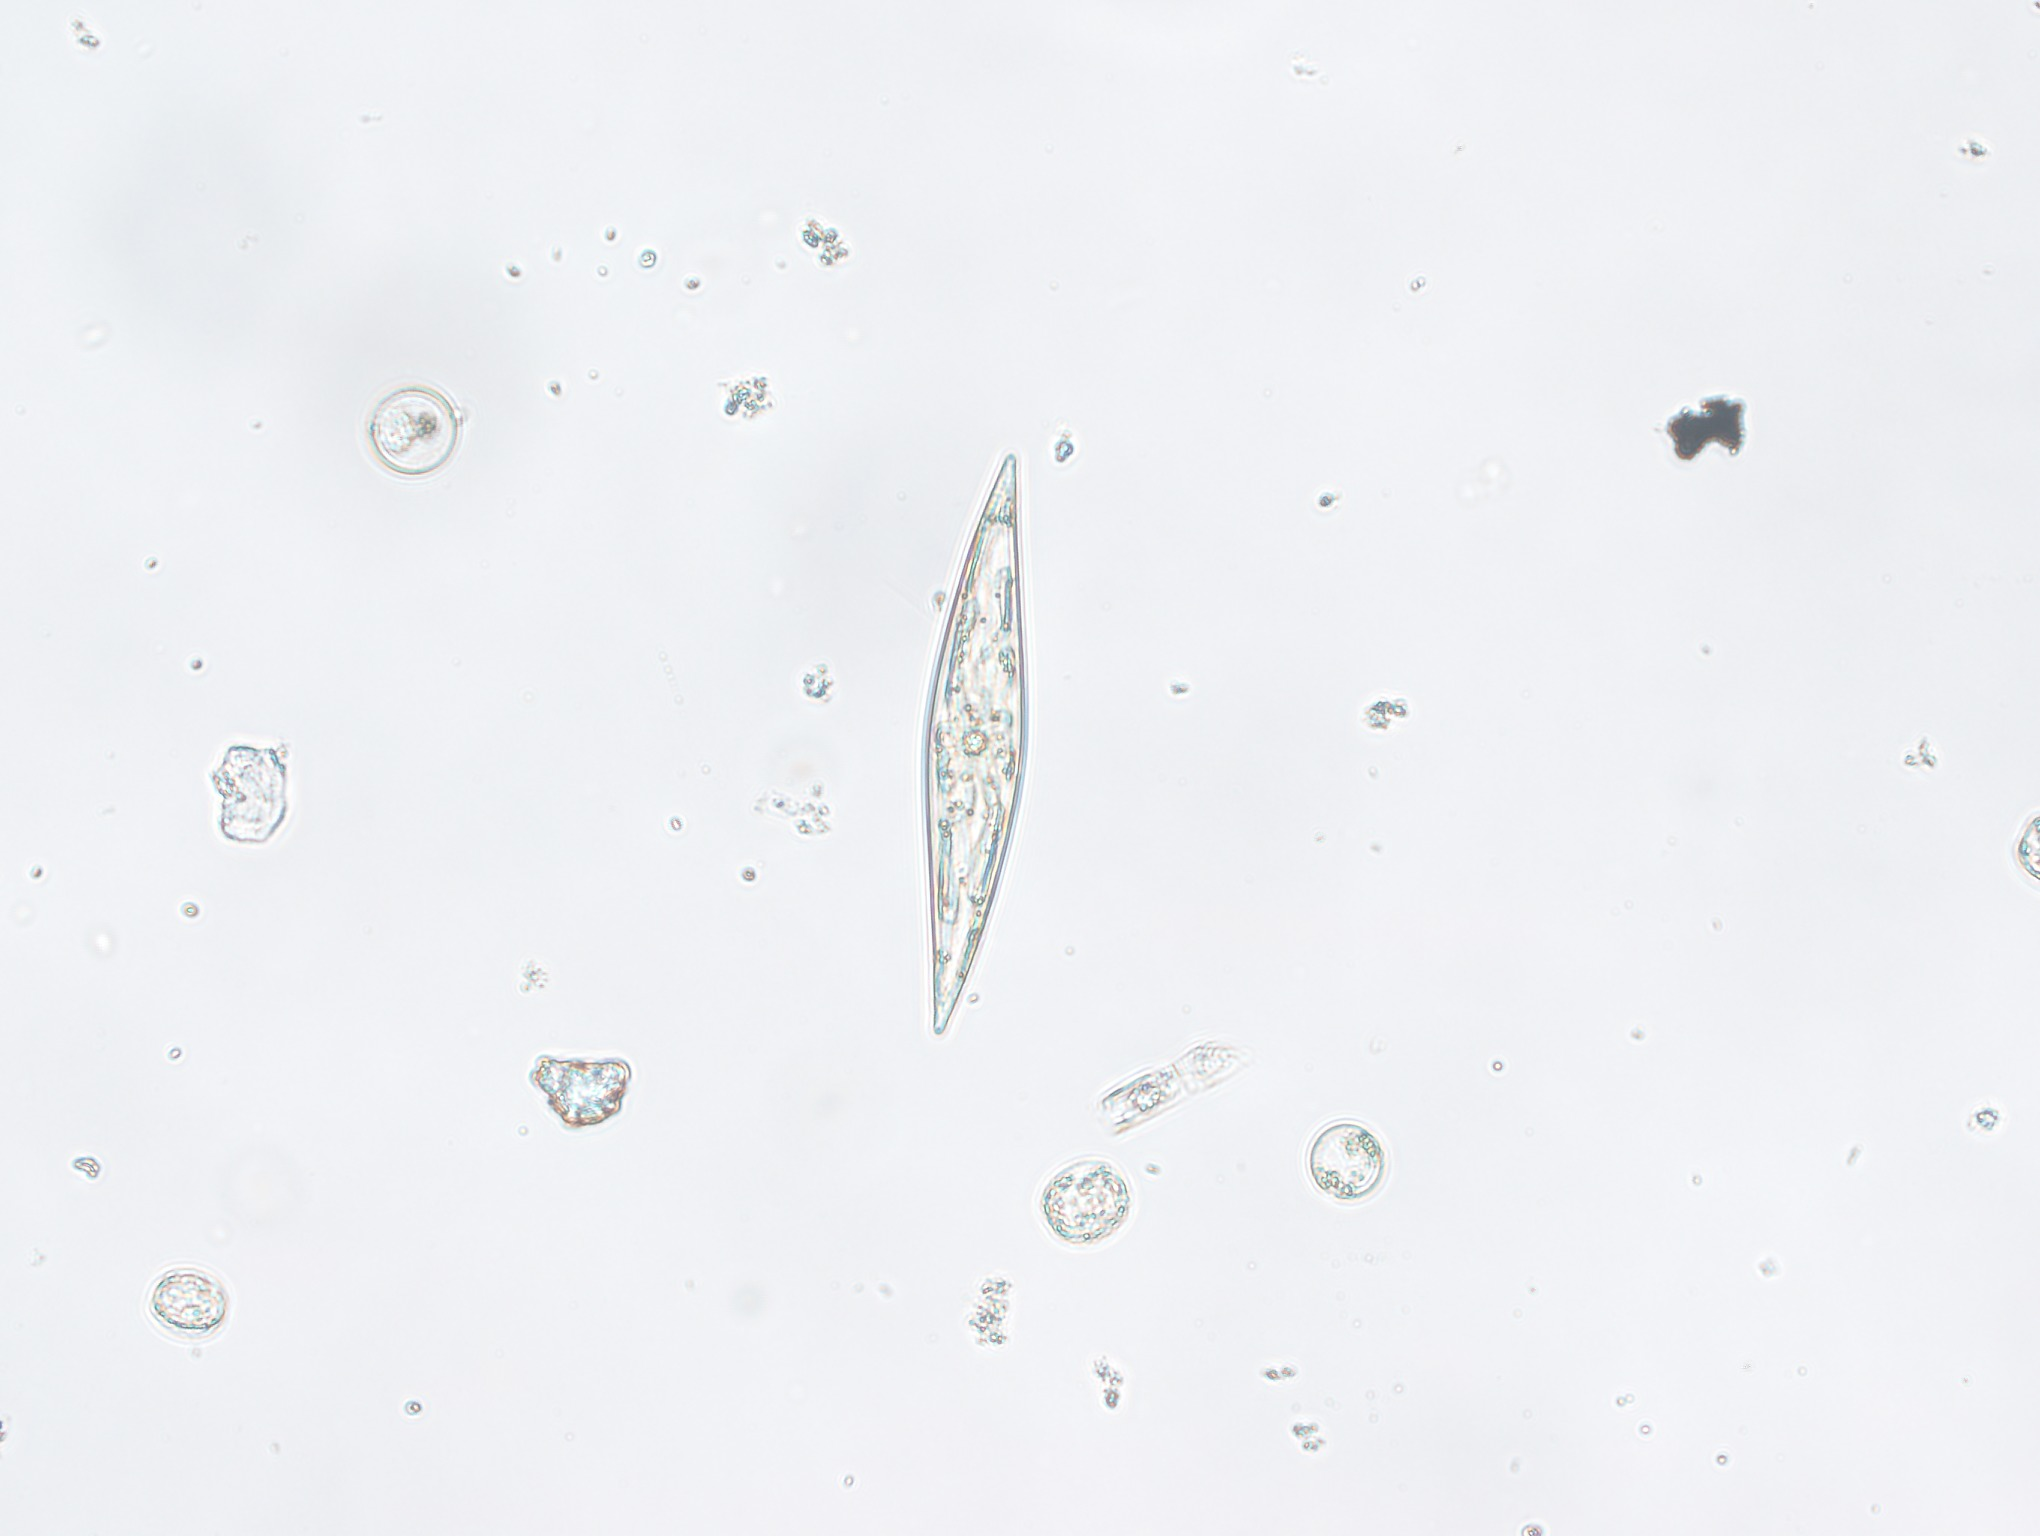pleurosigma pelagicum: (908, 437, 1064, 1039)
